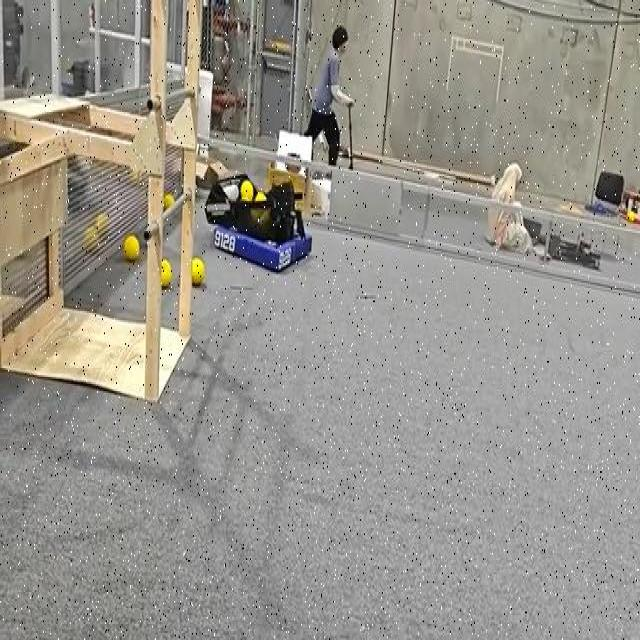Fuel: (123, 234, 139, 260), (94, 213, 110, 237), (84, 224, 98, 249), (191, 258, 204, 284), (160, 259, 172, 287), (94, 213, 108, 235), (240, 180, 254, 202), (161, 260, 172, 286), (240, 180, 253, 199), (626, 208, 638, 223), (254, 191, 267, 203), (163, 194, 174, 208), (255, 192, 267, 203), (626, 210, 635, 222)
